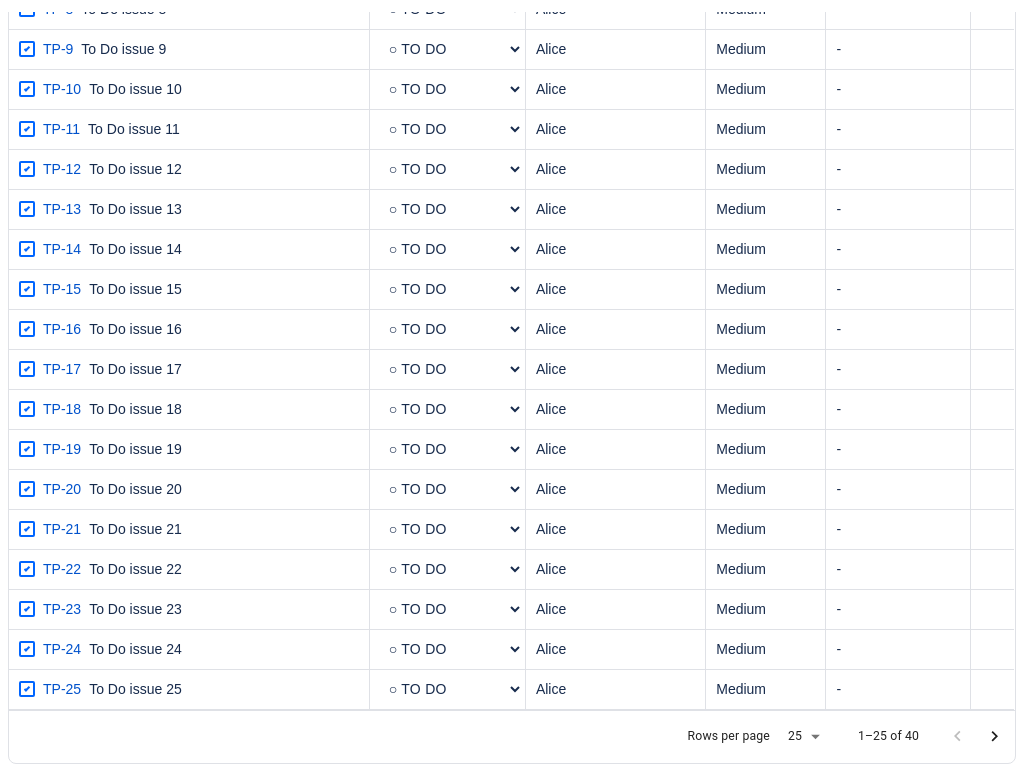
Test case: JL-263 — MUI TablePagination replaces the custom pager › clamps back to the first page when the page size grows on a later page
The image size is (1024, 780).
Click the button named "Go to next page" at point(994, 737), box x1=976 y1=718 x2=1013 y2=755
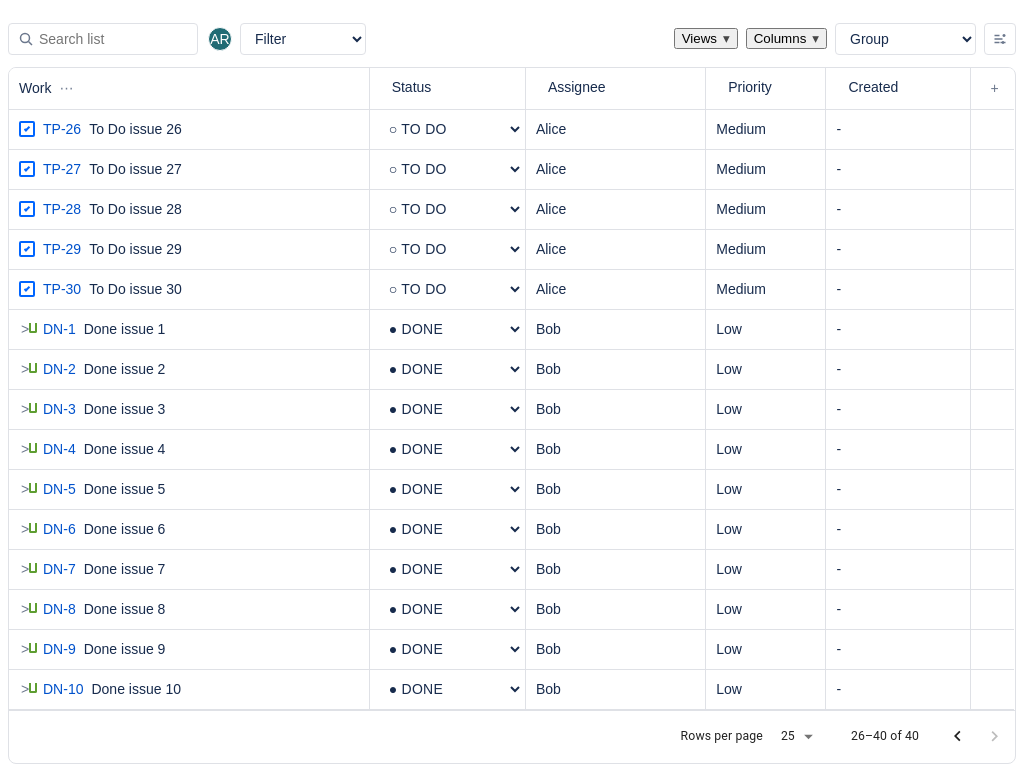
Now the text "26–40 of 40" is shown, box x1=851 y1=728 x2=919 y2=746
Select "50" in the dropdown named "Rows per page" at point(795, 737), box x1=771 y1=724 x2=819 y2=750
(page scrolled)
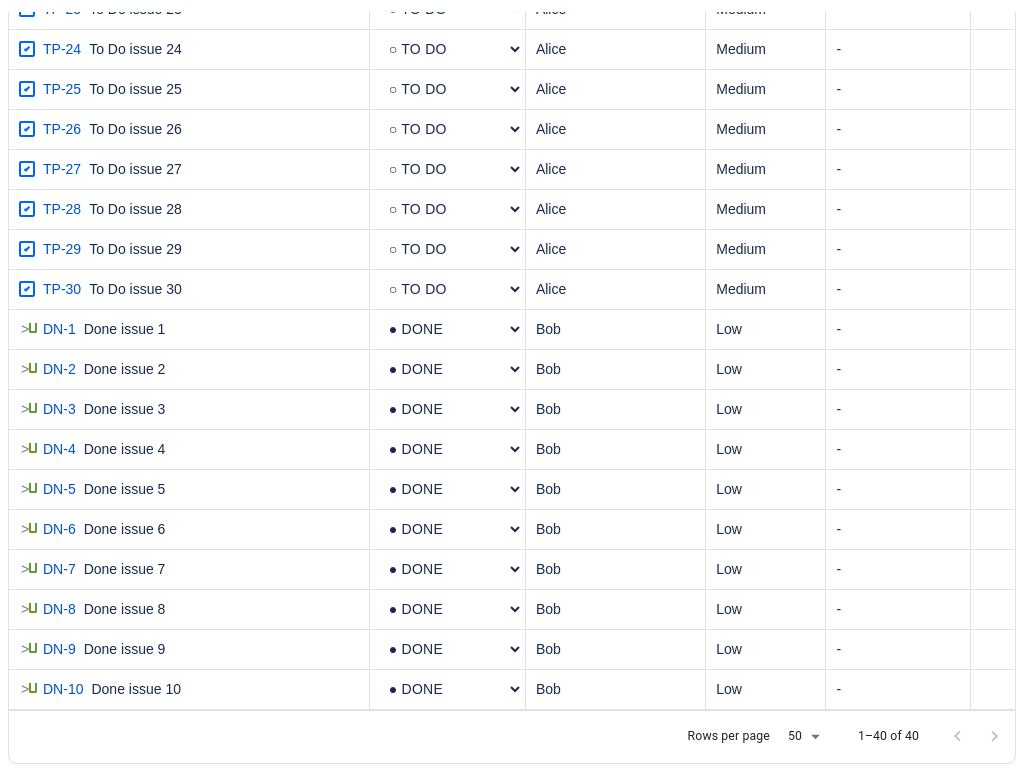
Now the text "1–40 of 40" is shown, box x1=858 y1=728 x2=919 y2=746
